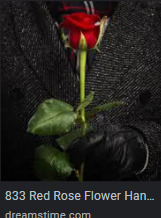RedRose: (61, 10, 111, 51)
